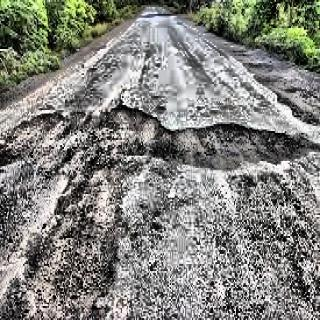pothole: (4, 99, 320, 188), (5, 138, 129, 320)
